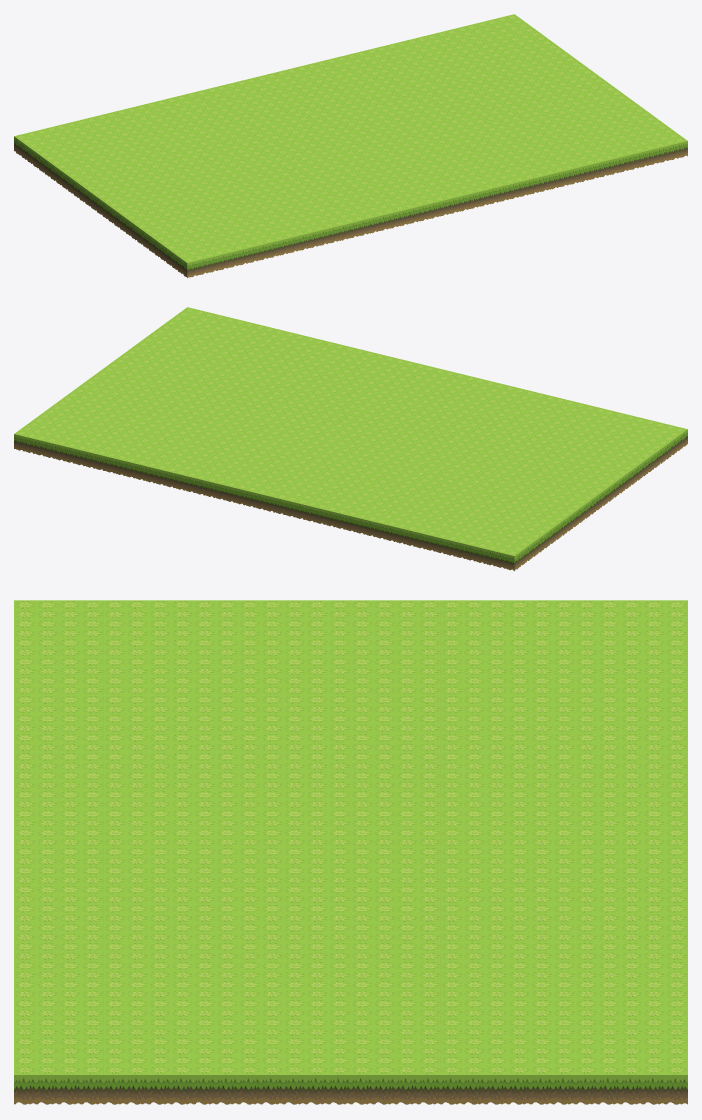
The model's file is block1500.obj.
The picture shows the model from 3 angles, top to bottom: view 1: azimuth 30°, elevation 25°; view 2: azimuth 150°, elevation 25°; view 3: azimuth 270°, elevation 25°; orthographic projection. The views are drawn at different scales.
Parts seen in each view (by area): view 1: n0b0; view 2: n0b0; view 3: n0b0.
Part boxes in pixels (x1,y1,x2,y2): n0b0: (14, 14, 687, 277); n0b0: (14, 307, 687, 571); n0b0: (14, 600, 687, 1104).
Size of the model in its own units: 3 by 0.09 by 1.8.
1 material, 1 textured.
